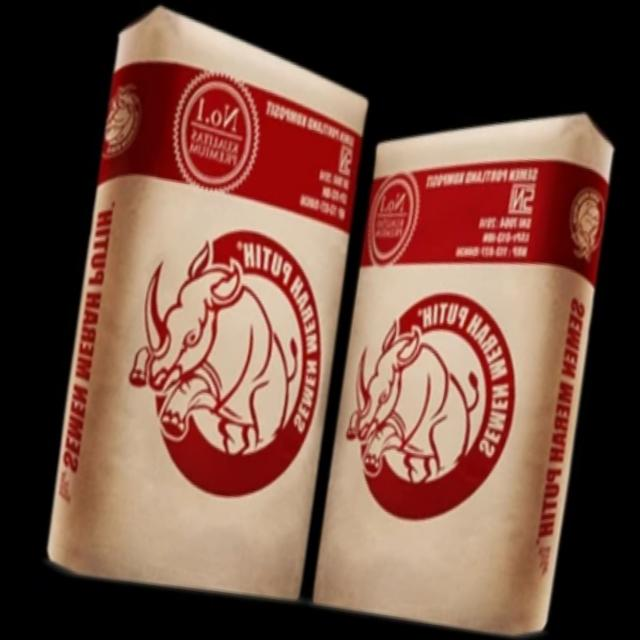KantongSemen: (42, 0, 381, 607), (309, 81, 623, 640)
